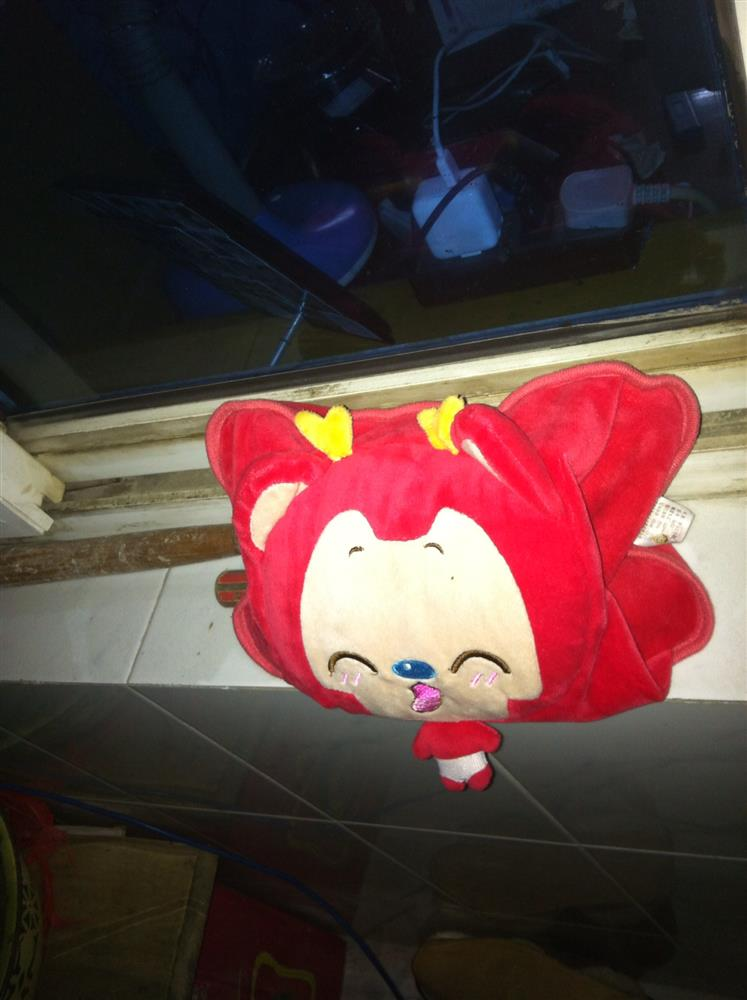Ali: (235, 383, 661, 795)
